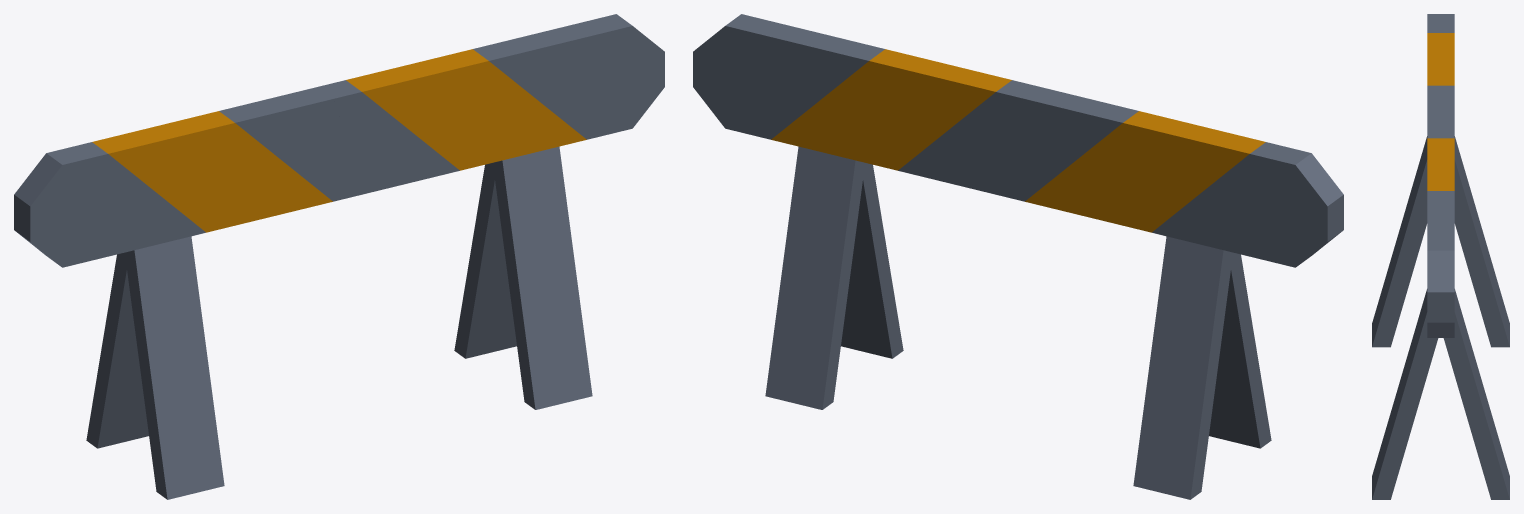
The model's file is Barrier 1 Fractured.fbx.
The picture shows the model from 3 angles, left to right: view 1: azimuth 30°, elevation 25°; view 2: azimuth 150°, elevation 25°; view 3: azimuth 270°, elevation 25°; orthographic projection. The views are drawn at different scales.
Parts seen in each view (by area): view 1: Barrier_01_Breaking, Barrier_01_Breaking.001; view 2: Barrier_01_Breaking, Barrier_01_Breaking.001; view 3: Barrier_01_Breaking.001, Barrier_01_Breaking.
Boxes of the visible parts, x1,y1,x2,y2 form: Barrier_01_Breaking: [14, 87, 361, 499]; Barrier_01_Breaking.001: [318, 14, 664, 409]; Barrier_01_Breaking: [996, 87, 1343, 499]; Barrier_01_Breaking.001: [693, 14, 1039, 409]; Barrier_01_Breaking.001: [1372, 126, 1509, 499]; Barrier_01_Breaking: [1372, 14, 1509, 347].
Size of the model in its own units: 129 by 64.01 by 28.63.
